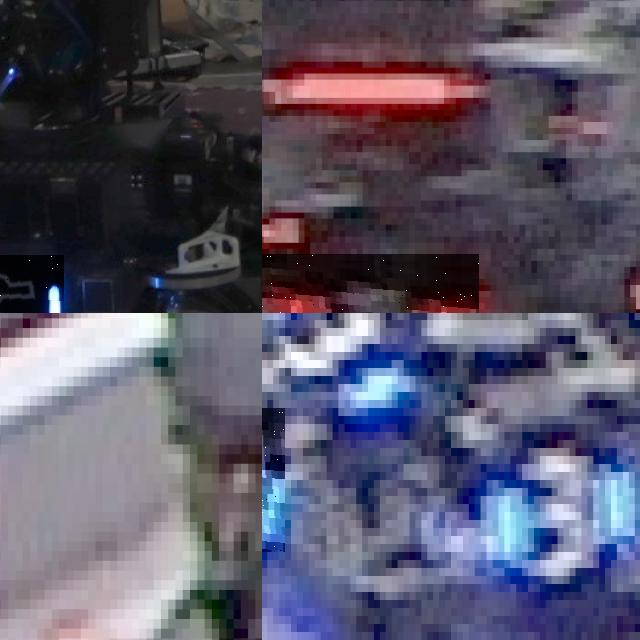B3: (486, 448, 634, 576), (262, 408, 285, 552)
Bs: (0, 255, 63, 313)
R1: (262, 254, 479, 313)
